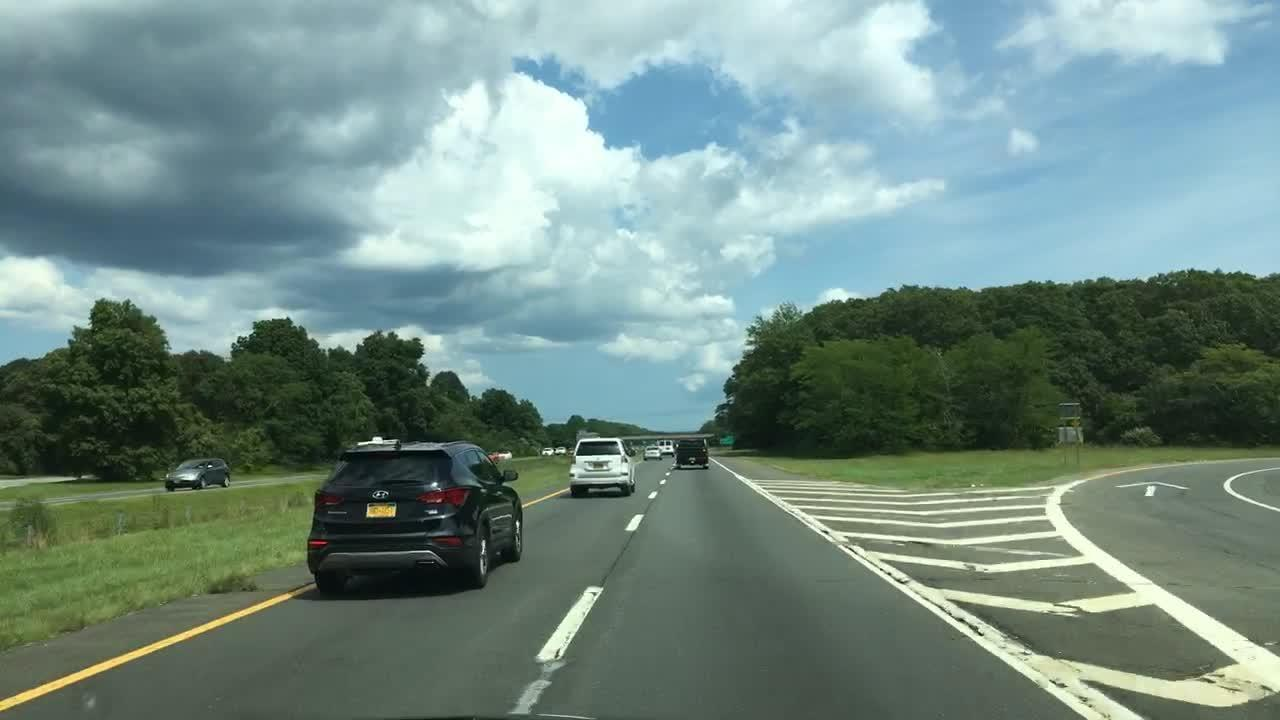Hyundai: (366, 482, 396, 503)
